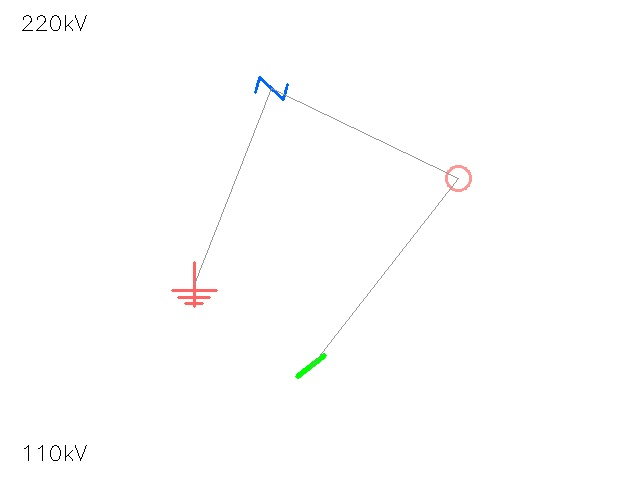busbar: (290, 345, 332, 387)
circuit_breaker: (255, 72, 287, 104)
ground: (172, 262, 216, 306)
load_break_switch: (433, 153, 483, 203)
